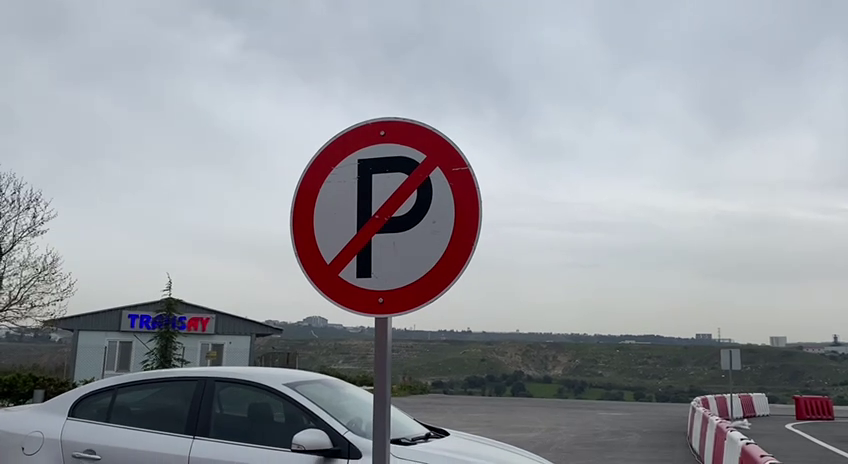noparking: (285, 108, 489, 321)
